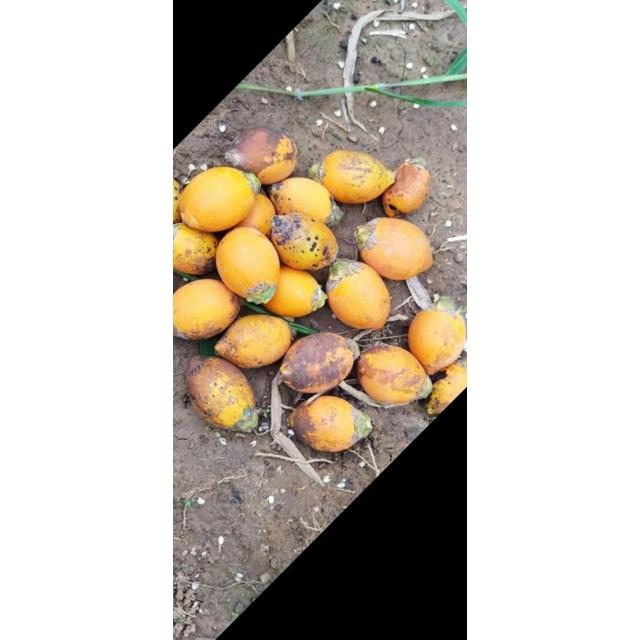good: (196, 173, 467, 417)
